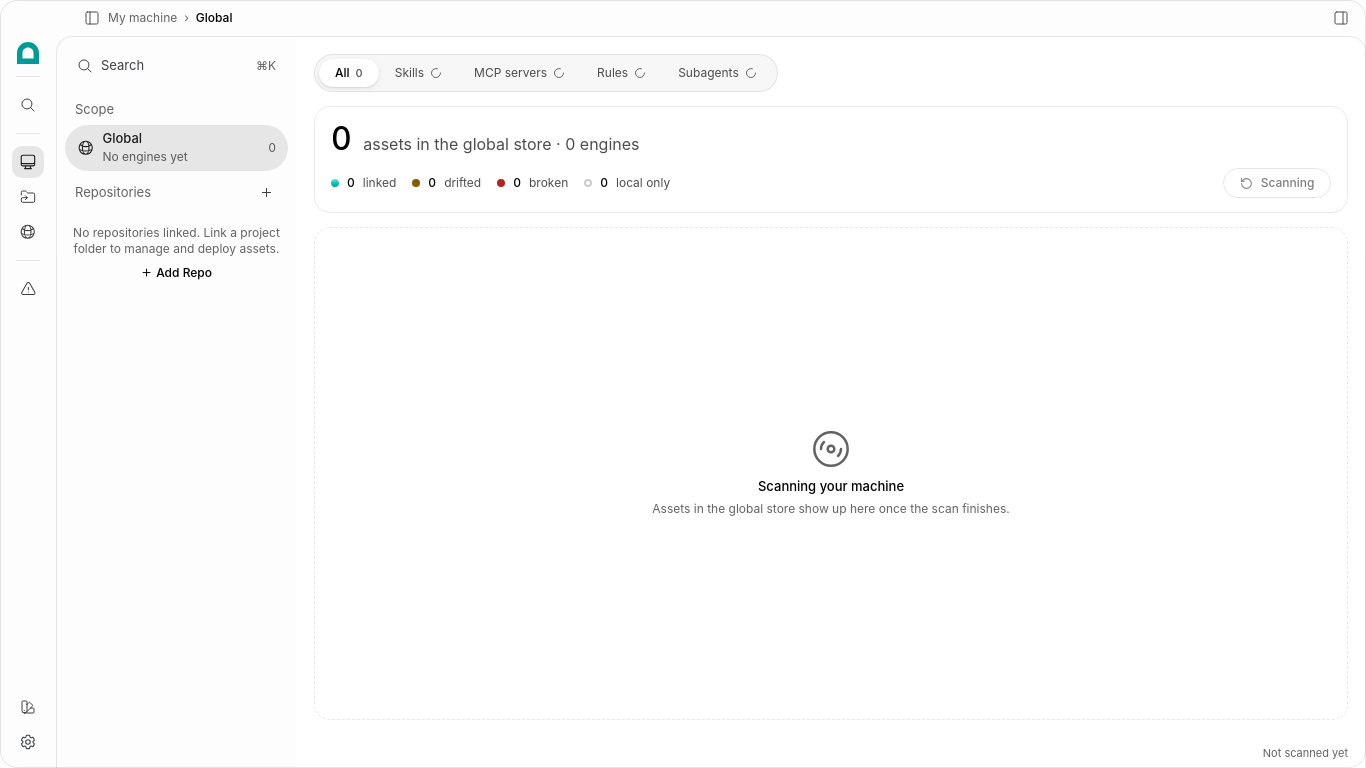
Sidebar collapse and persistence › exposes a sidebar toggle, hiding the sidebar entirely when clicked, and persisting across remount
Expected: the element with test id "sidebar" is shown, top-left (56, 36), bottom-right (296, 767)
Click the button named "toggle sidebar" at (92, 18), box top-left (76, 4), bottom-right (108, 32)
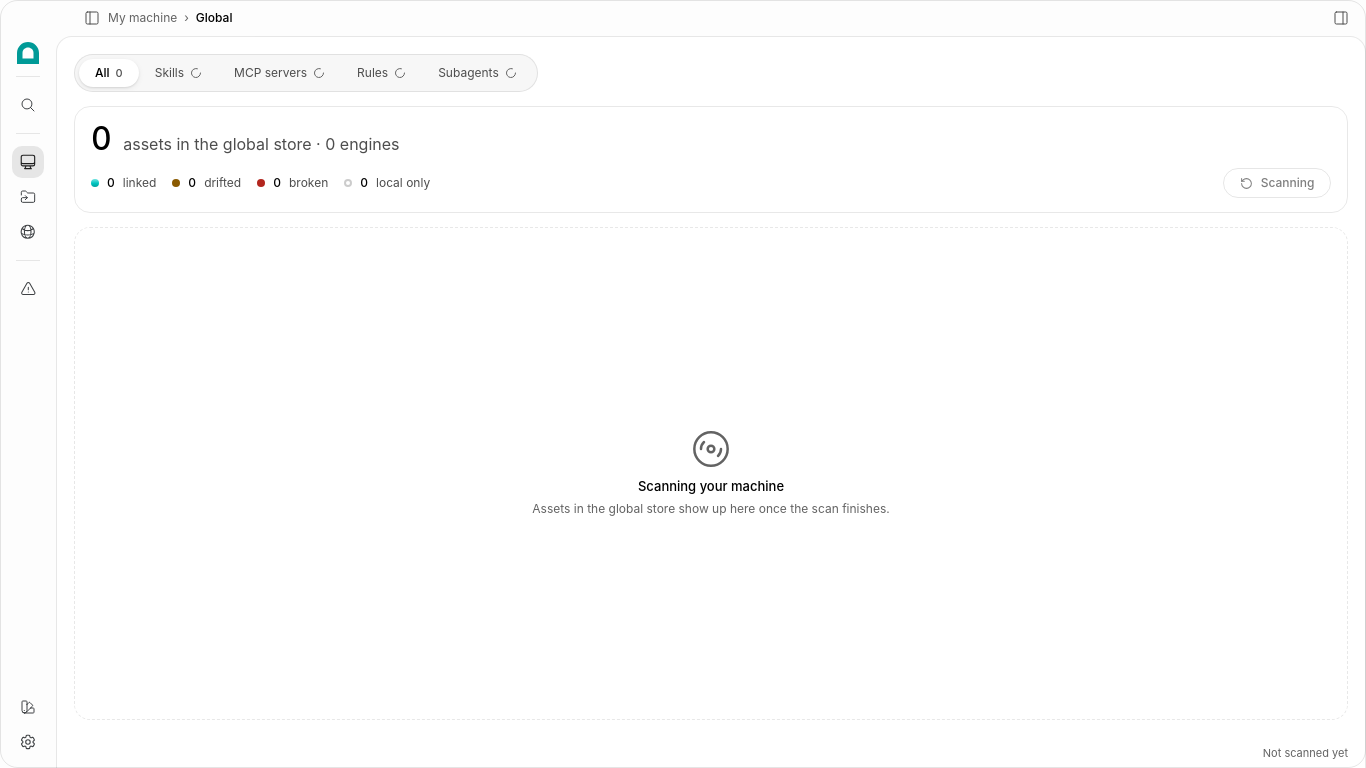
Expected: the element with test id "sidebar" is gone
